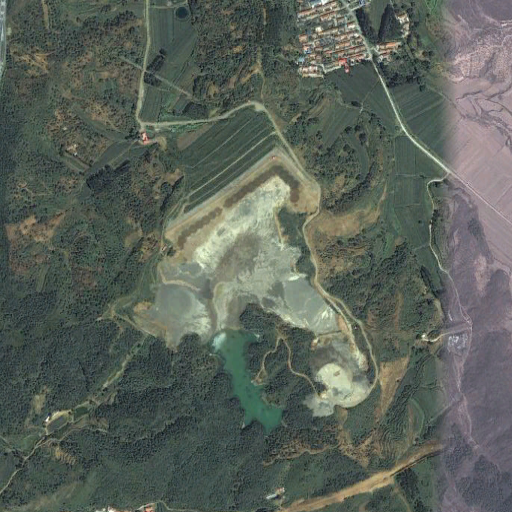tp: (132, 108, 372, 433)
